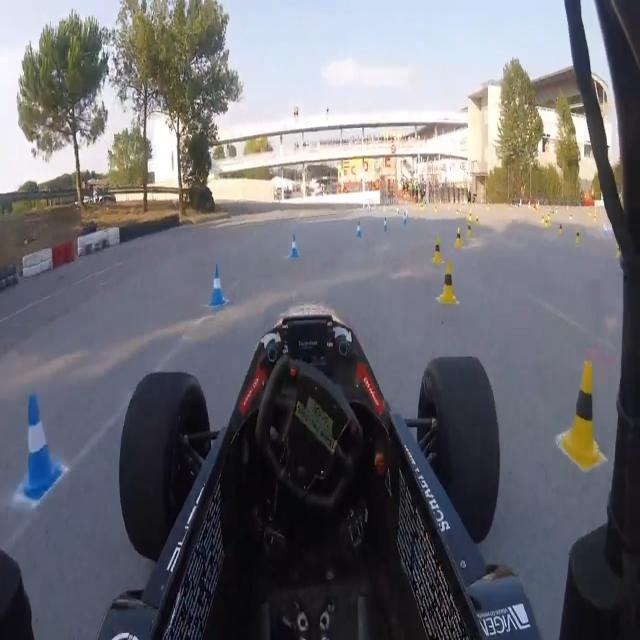blue_cone: (16, 392, 60, 506), (208, 263, 224, 304), (290, 231, 298, 257), (356, 218, 361, 237), (403, 211, 408, 230), (383, 216, 388, 234)
yellow_cone: (562, 361, 608, 462), (441, 261, 454, 303), (433, 234, 442, 264), (616, 235, 622, 263), (466, 218, 473, 240), (575, 224, 581, 247), (557, 219, 564, 238), (455, 226, 461, 247)
